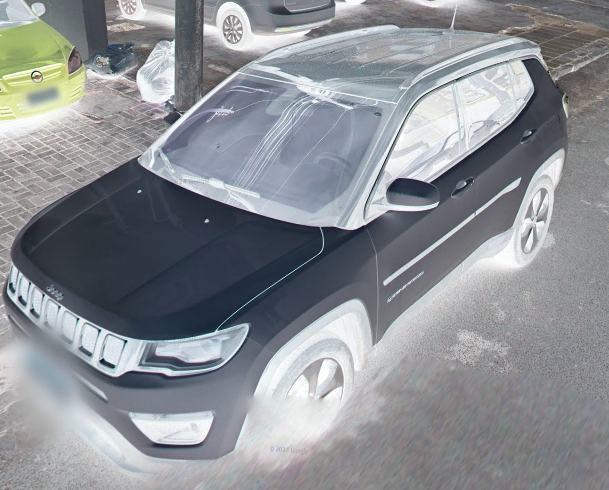car: (3, 24, 575, 463)
